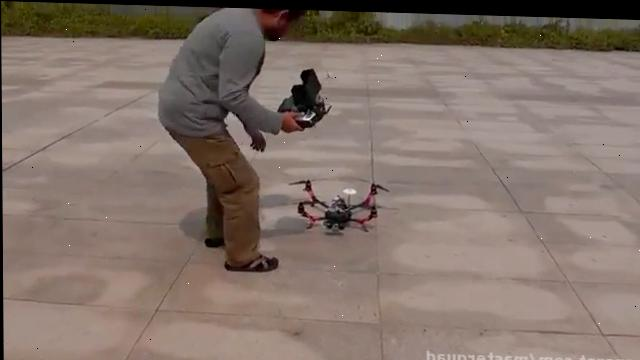drone: (284, 172, 392, 230)
